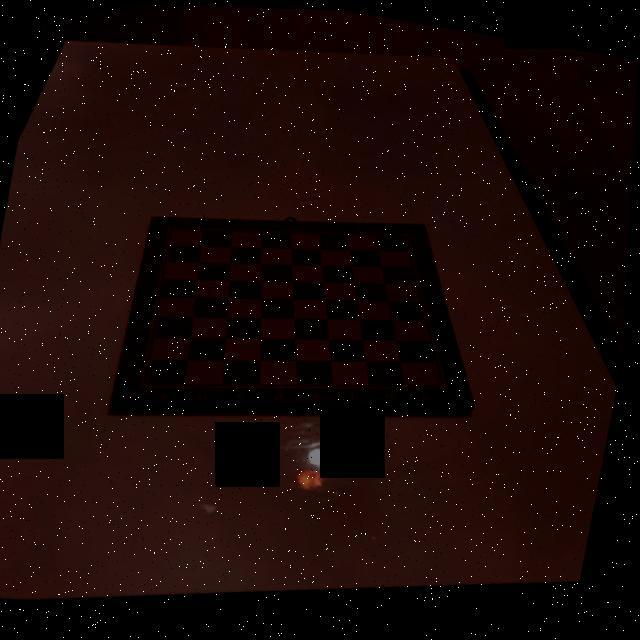chess-table-corners: (438, 385, 456, 400), (160, 223, 179, 236), (136, 381, 152, 394), (400, 233, 414, 244)
